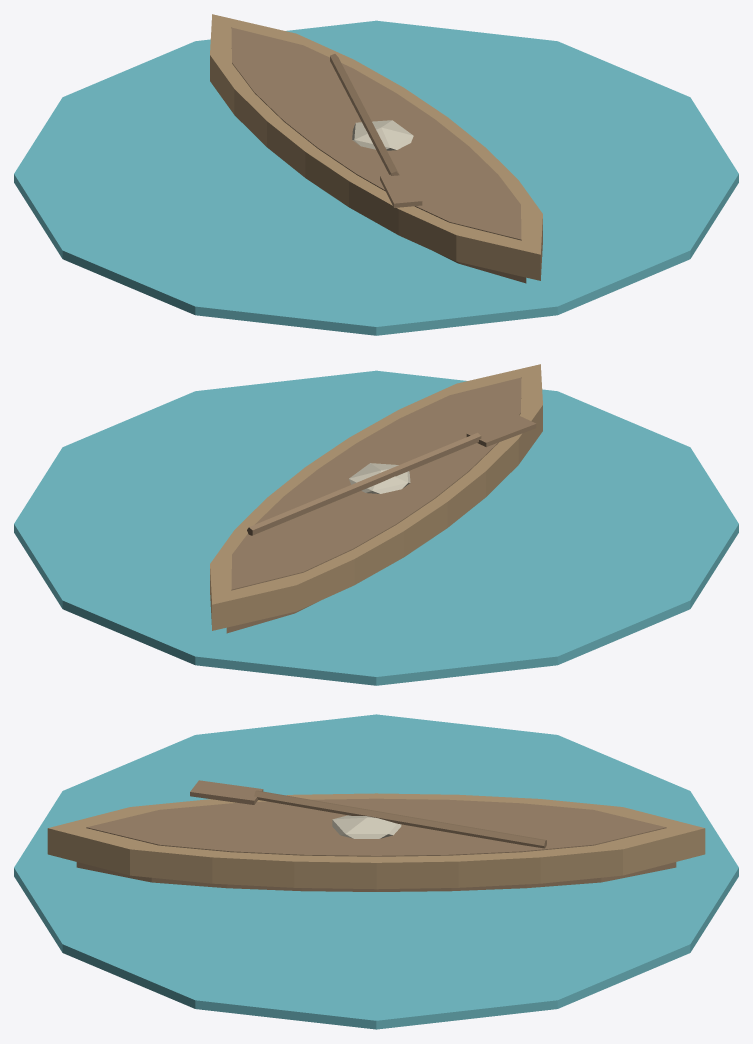
The model's file is beira_rio__canoa.glb.
The picture shows the model from 3 angles, top to bottom: view 1: azimuth 30°, elevation 25°; view 2: azimuth 150°, elevation 25°; view 3: azimuth 270°, elevation 25°; orthographic projection.
Parts seen in each view (by area): view 1: beira_rio__canoa; view 2: beira_rio__canoa; view 3: beira_rio__canoa.
Part boxes in pixels (left/top/right/bottom): beira_rio__canoa: left=14, top=14, right=738, bottom=335; beira_rio__canoa: left=14, top=364, right=738, bottom=685; beira_rio__canoa: left=14, top=714, right=738, bottom=1029.
Bounding box in the file's own units: 1.5 × 0.1495 × 1.5.
